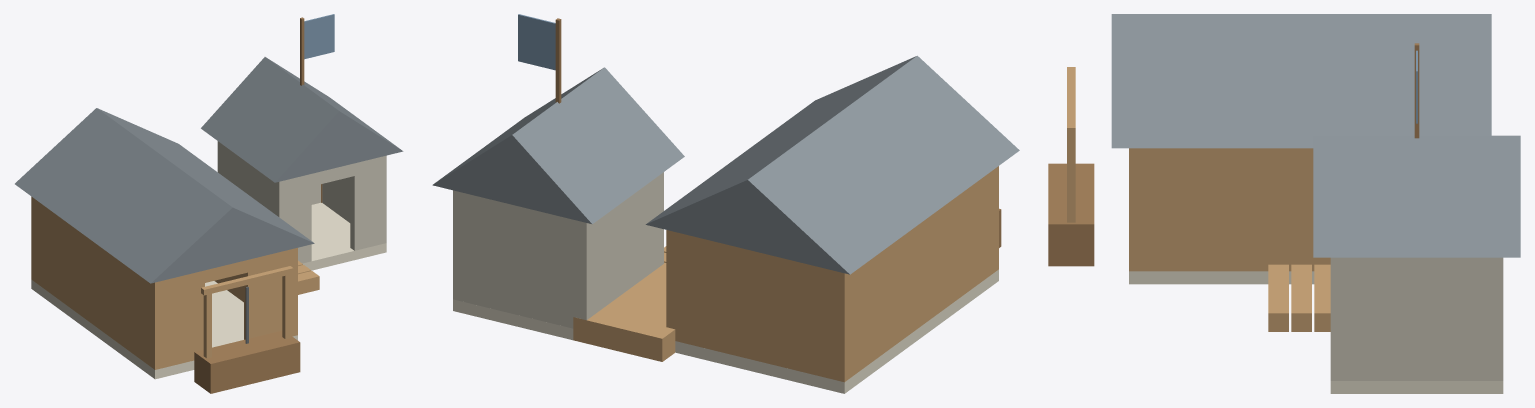
The model's file is sawmill-upgraded.glb.
3 views of the same model, side by side, from view 1: azimuth 30°, elevation 25°; view 2: azimuth 150°, elevation 25°; view 3: azimuth 270°, elevation 25° (orthographic). The views are drawn at different scales.
Parts seen in each view (by area): view 1: sawmill-upgraded; view 2: sawmill-upgraded; view 3: sawmill-upgraded.
Part boxes in pixels (x1,y1,x2,y2): sawmill-upgraded: (15,14,403,393); sawmill-upgraded: (432,14,1019,393); sawmill-upgraded: (1048,14,1520,393).
Bounding box in the file's own units: 9.1 × 6 × 8.2.
